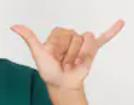clockwise: (8, 17, 127, 83)
